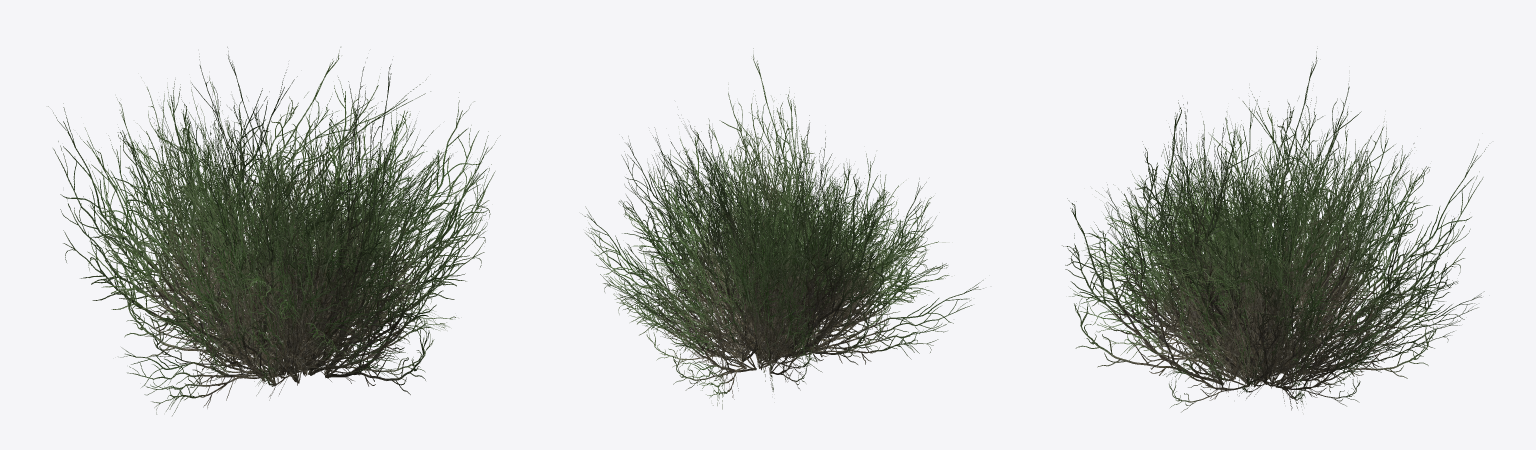
The model's file is runtime-croton.glb.
3 views of the same model, side by side, from view 1: azimuth 30°, elevation 25°; view 2: azimuth 150°, elevation 25°; view 3: azimuth 270°, elevation 25° (orthographic). The views are drawn at different scales.
Parts seen in each view (by area): view 1: BroomSnakeweed_Low; view 2: BroomSnakeweed_Low; view 3: BroomSnakeweed_Low.
Part boxes in pixels (bbox=[...]): BroomSnakeweed_Low: bbox=[48, 47, 500, 415]; BroomSnakeweed_Low: bbox=[582, 48, 983, 409]; BroomSnakeweed_Low: bbox=[1062, 48, 1488, 412].
Bounding box in the file's own units: 3.04 × 2.27 × 2.87.
1 material, 1 textured.
